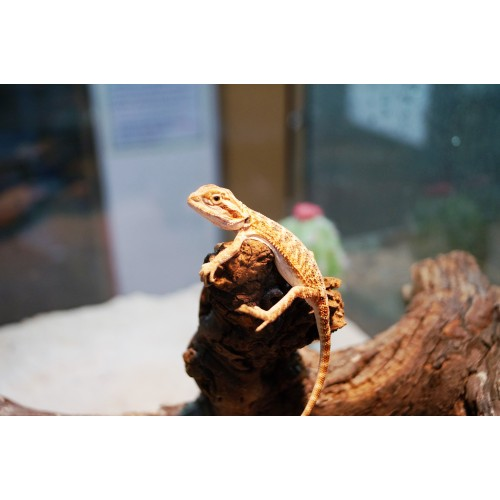bearded: (185, 183, 347, 413)
